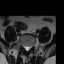CCS_normal: (26, 43, 28, 52)
LFS_normal: (30, 42, 32, 50)
LLS_normal: (28, 43, 30, 52)
RFS_normal: (22, 42, 24, 49)
RLS_normal: (24, 43, 26, 51)
